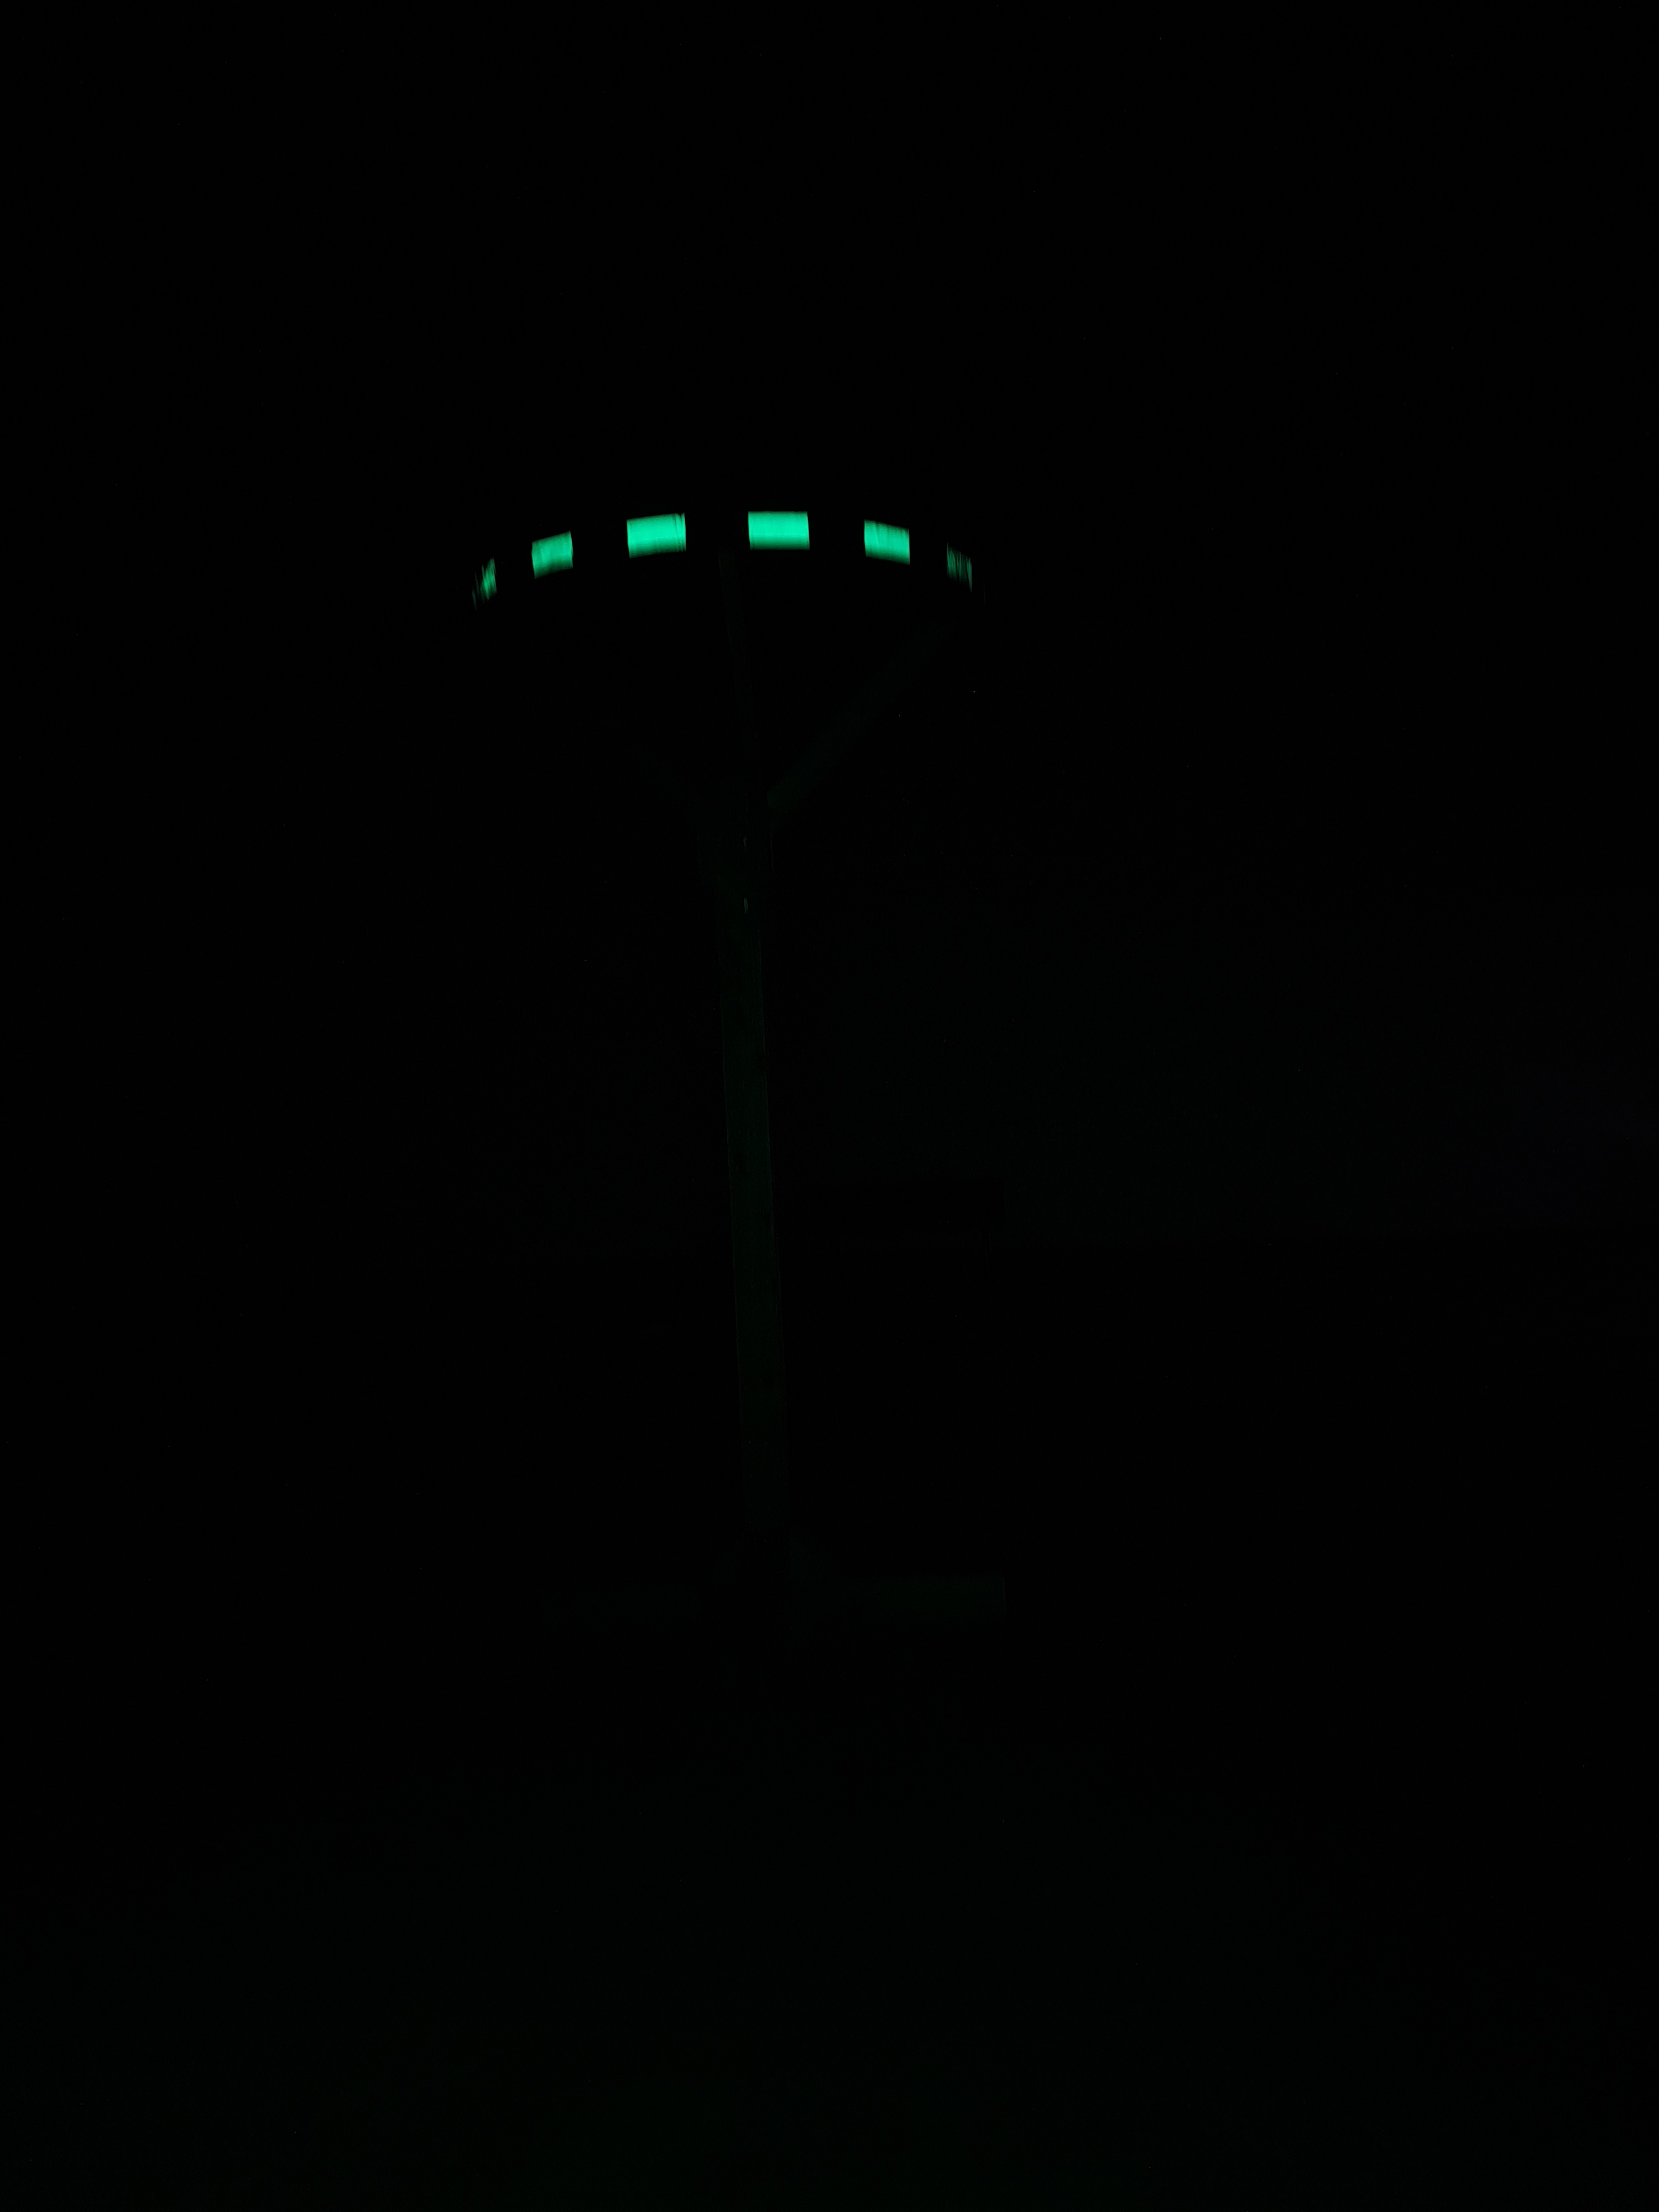hoop: (467, 505, 985, 620)
